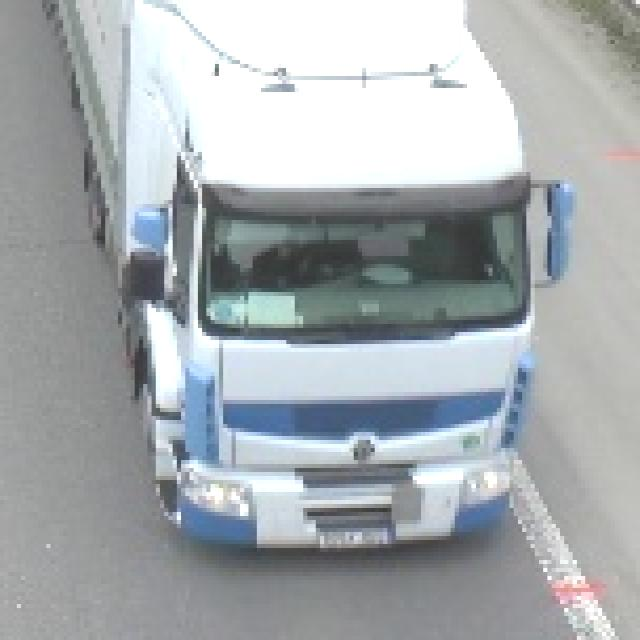TRUCK: (156, 0, 522, 549)
